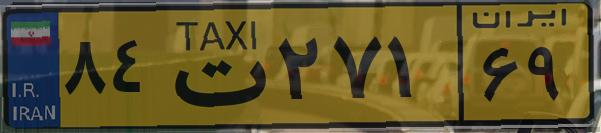1: (385, 28, 445, 110)
2: (270, 28, 330, 110)
4: (110, 28, 158, 98)
6: (475, 38, 525, 113)
7: (330, 28, 385, 110)
8: (57, 26, 110, 100)
9: (525, 38, 570, 115)
ت: (158, 12, 270, 120)
